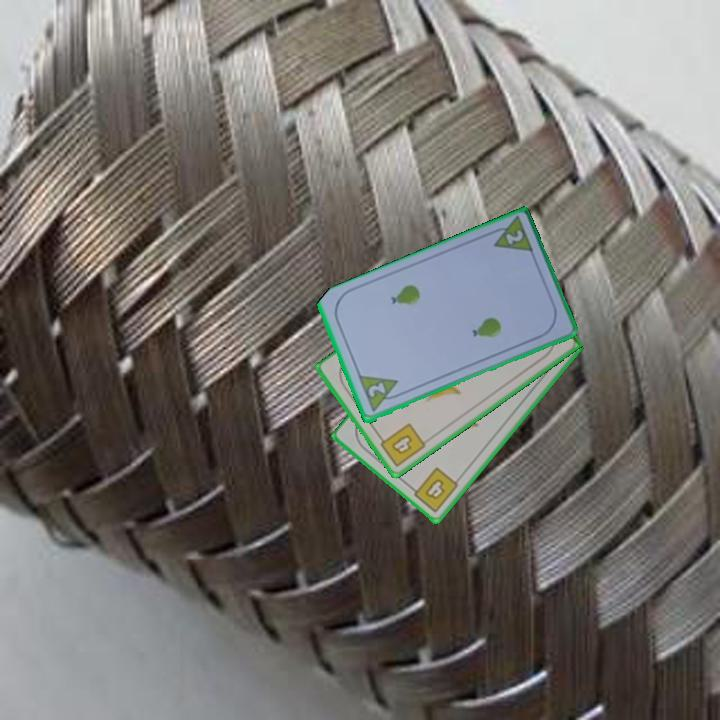2p: (364, 379, 388, 401), (502, 226, 526, 248)
4b: (406, 464, 461, 516), (374, 420, 429, 470)
